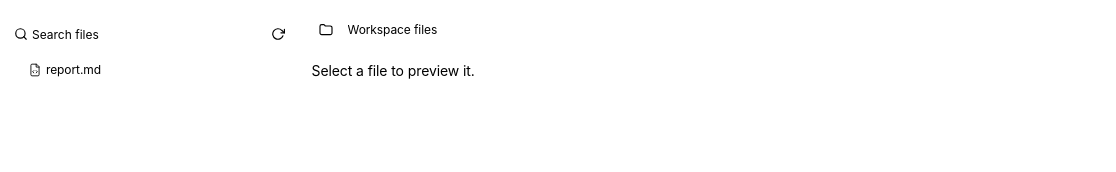
Scenario: workspace source preview limits › does not show an older Markdown source page after a stale complete read
Click the text with class "workspace-files__name": click(74, 69) [46,62,101,77]
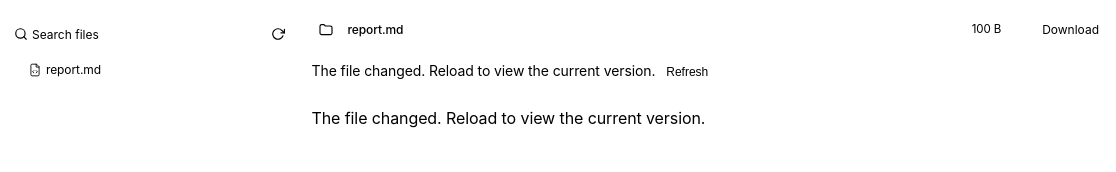
Now the message "The file changed. Reload to view the current version. Refresh" is shown, box [312,62,715,82]
